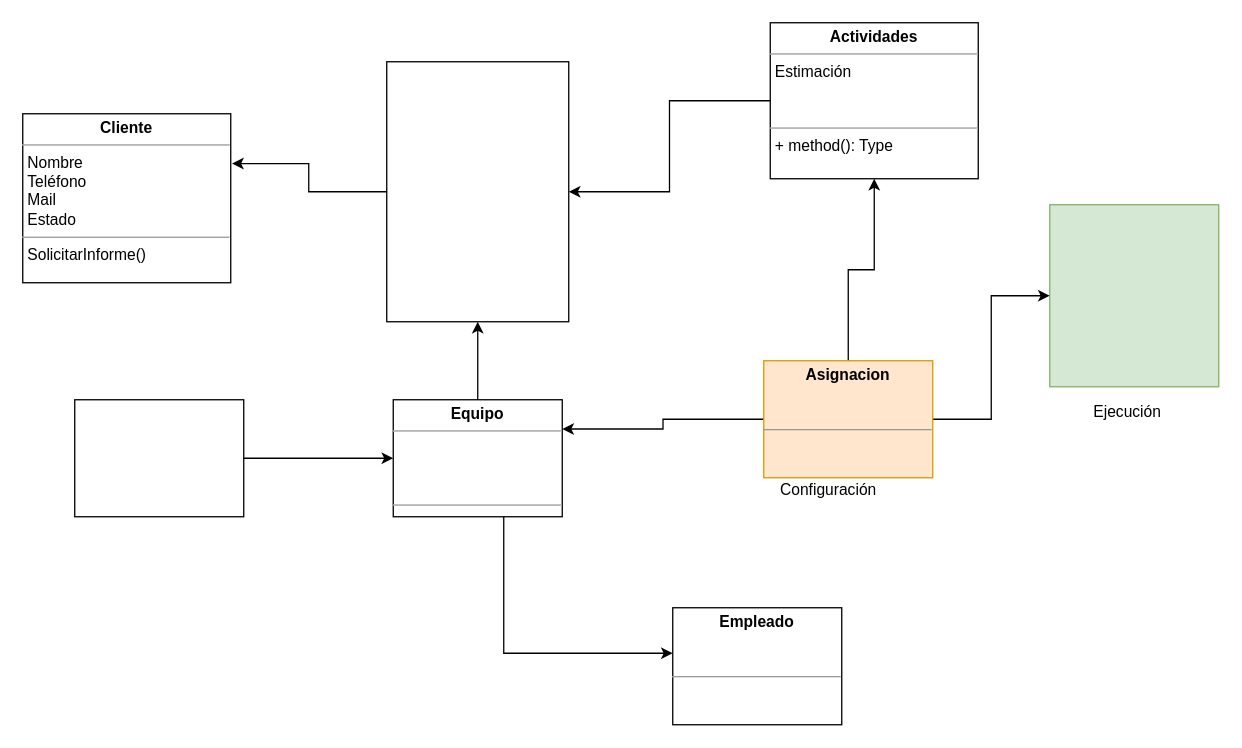
Image size: 1242x748. Some labels were removed from this diagram. The centre of each missing label's shape, as x and y in pixels:
"ActivXEmpleado Fecha Avance" belongs at (x=1133, y=295).
"Proyecto Nombre Descripción Estado + method(): Type" belongs at (x=477, y=191).
"Rol" belongs at (x=158, y=457).
